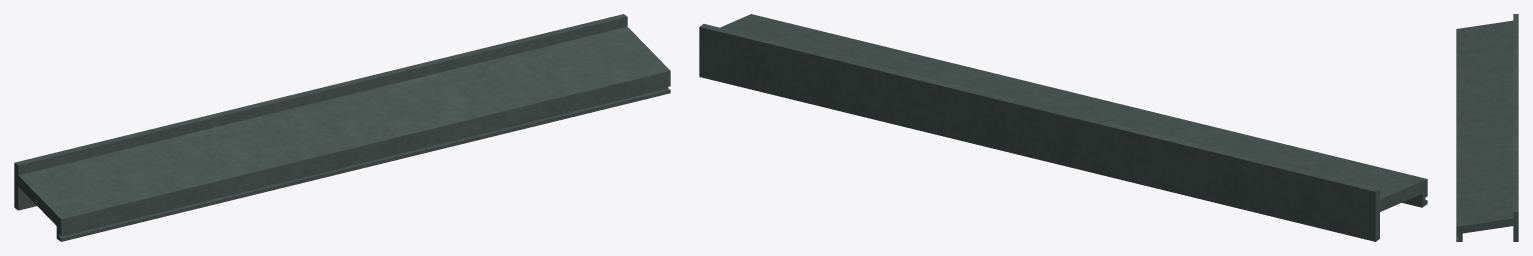
File: modern-sill-drip.lod0.glb
3 views of the same model, side by side, from view 1: azimuth 30°, elevation 25°; view 2: azimuth 150°, elevation 25°; view 3: azimuth 270°, elevation 25° (orthographic). The views are drawn at different scales.
Visible parts, largest first — view 1: modern-sill-drip; view 2: modern-sill-drip; view 3: modern-sill-drip.
Boxes of the visible parts, left/top/right/bottom form: modern-sill-drip: left=14, top=14, right=670, bottom=241; modern-sill-drip: left=699, top=14, right=1427, bottom=241; modern-sill-drip: left=1456, top=14, right=1518, bottom=241.
Size of the model in its own units: 2.26 by 0.16 by 0.3.
1 material, 1 textured.
